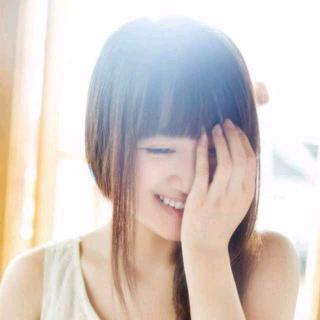face: (123, 92, 234, 239)
